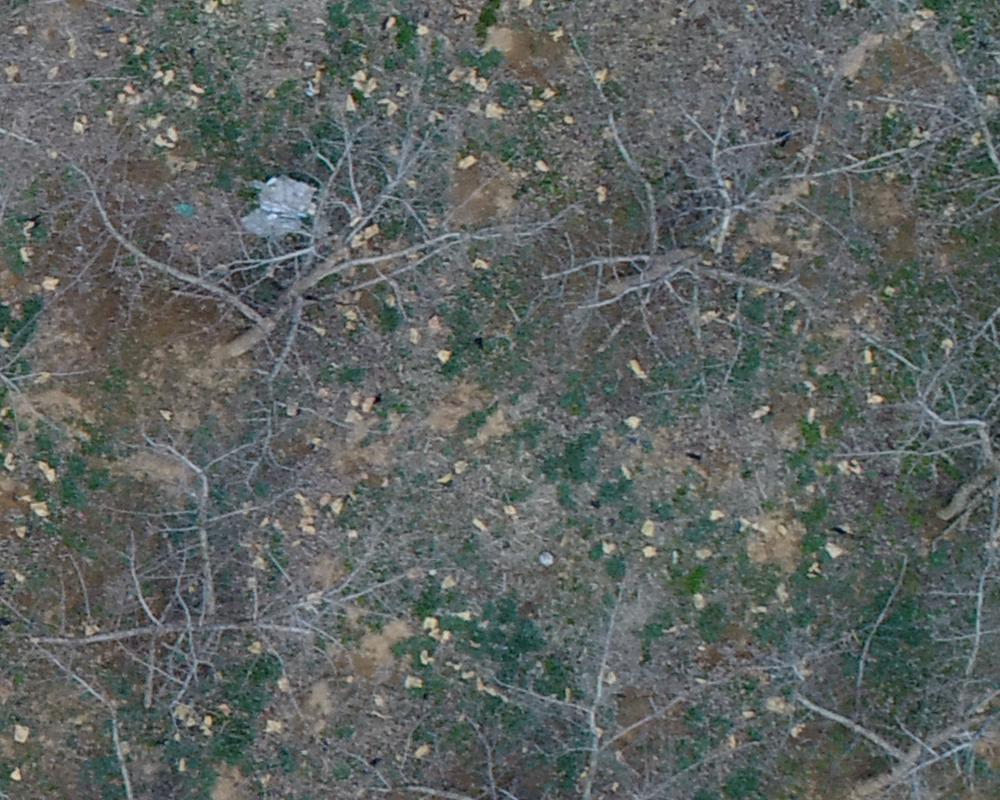apple: (75, 124, 538, 395), (12, 436, 420, 722), (525, 65, 863, 394), (395, 611, 783, 790), (760, 545, 990, 790), (849, 327, 990, 594)
